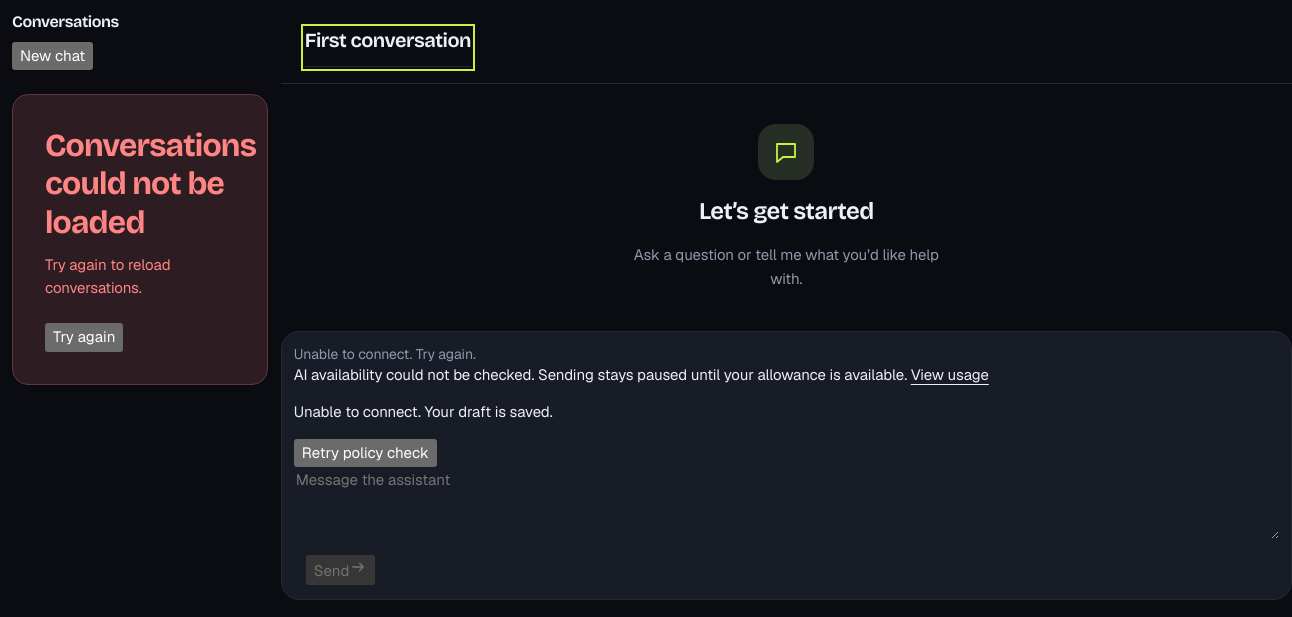
Scenario: ChatWorkspace › offers a list retry instead of presenting a false empty state
Expected: the message with test id "conversation-list-error" shows "could not be loaded", [45,126,256,242]
Step 1. Click the button with test id "conversation-list-retry" → x=84, y=338, box [45,323,123,352]
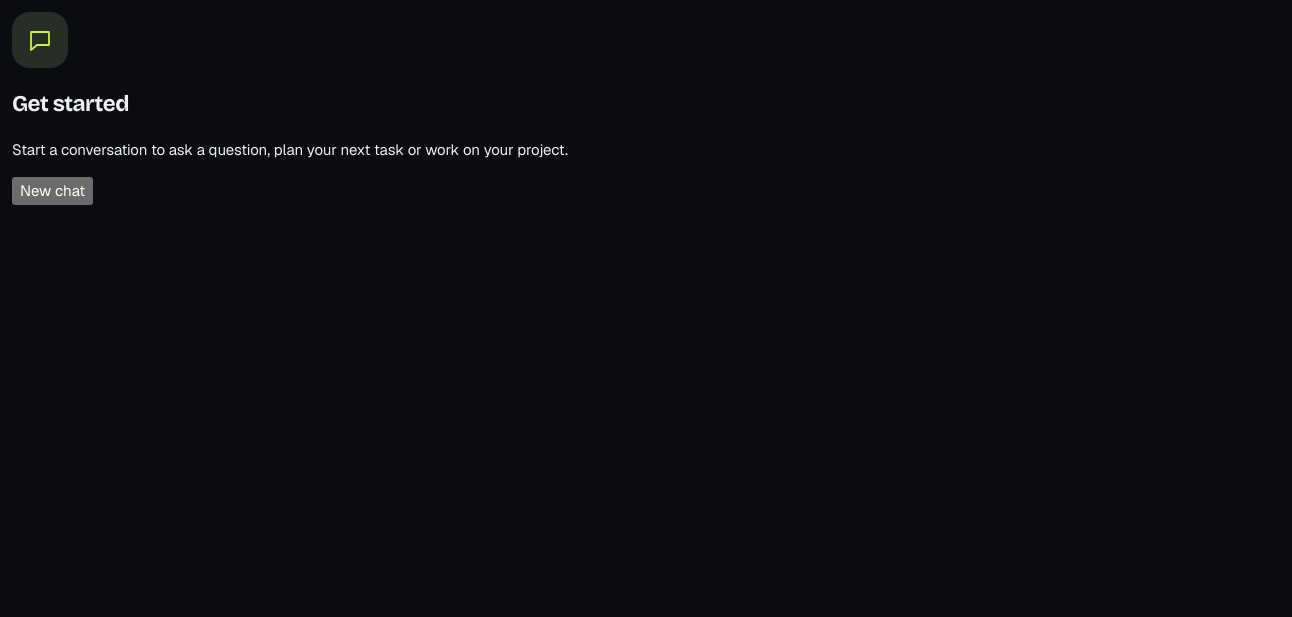
Now the element with test id "conversation-list-empty" is shown, box [12,12,568,205]
